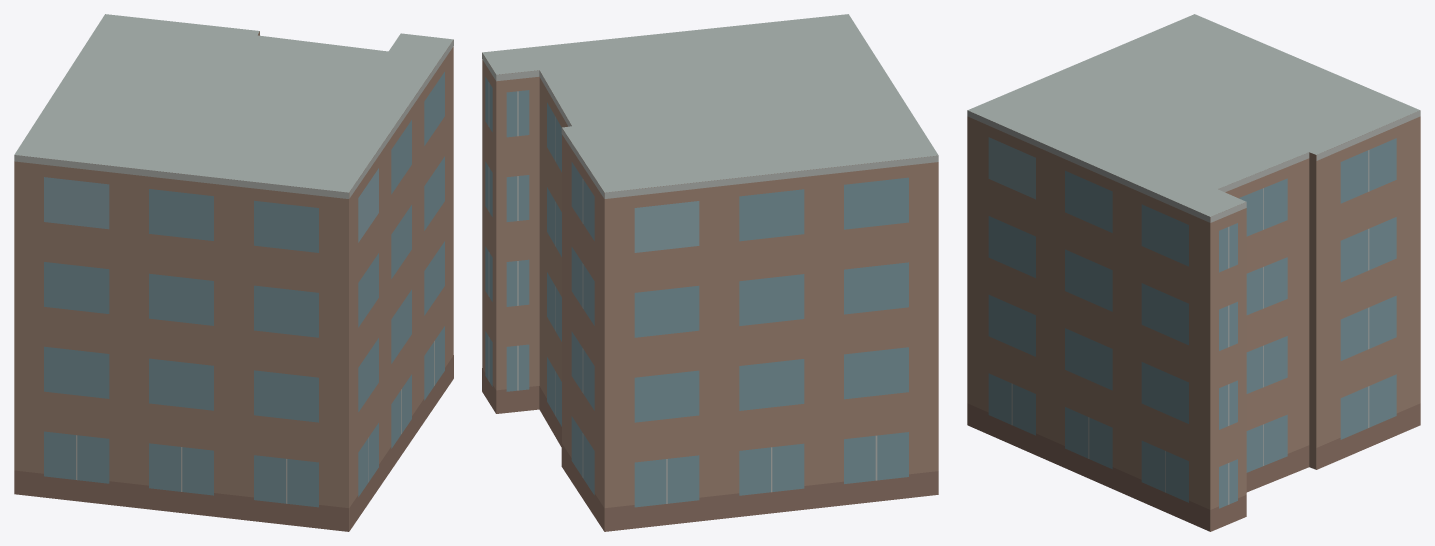
File: survey-upis-32597822.glb
The picture shows the model from 3 angles, left to right: view 1: azimuth 30°, elevation 25°; view 2: azimuth 150°, elevation 25°; view 3: azimuth 270°, elevation 25°; orthographic projection. The views are drawn at different scales.
Visible parts, largest first — view 1: survey-upis-32597822.tmp; view 2: survey-upis-32597822.tmp; view 3: survey-upis-32597822.tmp.
Part boxes in pixels (x1,y1,x2,y2): survey-upis-32597822.tmp: (14, 14, 453, 531); survey-upis-32597822.tmp: (482, 14, 938, 531); survey-upis-32597822.tmp: (967, 14, 1420, 531).
Bounding box in the file's own units: 17.56 × 12.7 × 16.57.
